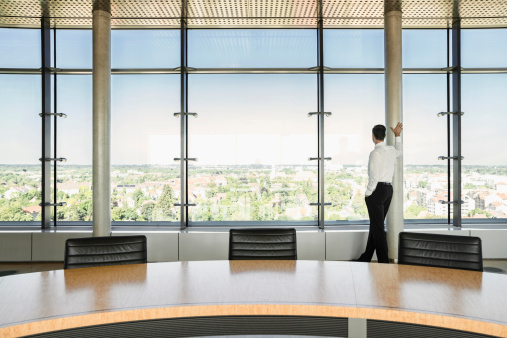em pe: (358, 116, 398, 259)
